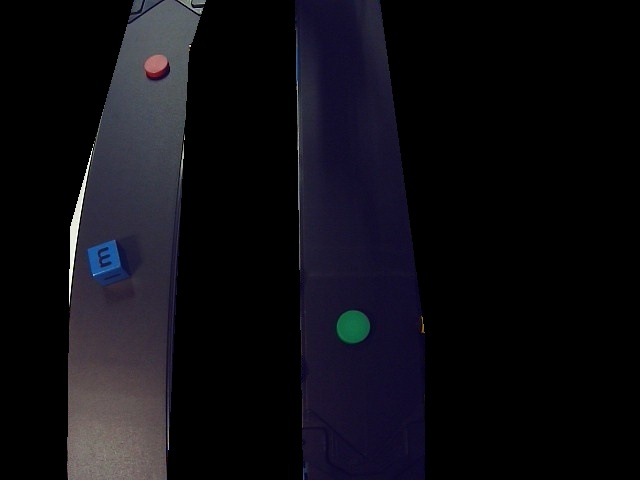Green_Circle: (333, 310, 374, 347)
Red_Circle: (141, 54, 171, 78)
Unknown: (83, 238, 133, 287)
